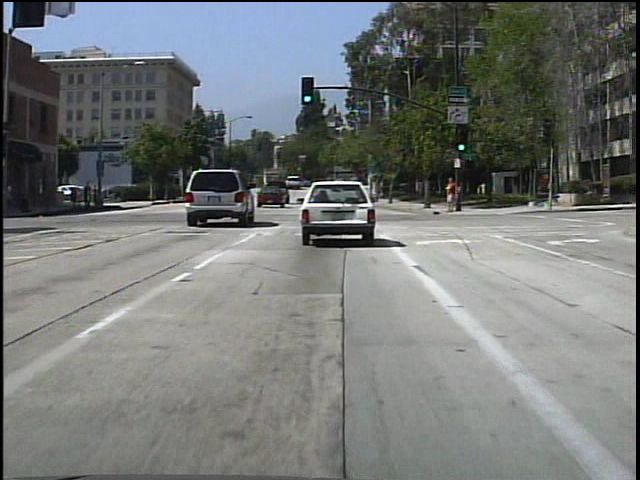person: (441, 172, 461, 216), (85, 179, 96, 212), (98, 182, 99, 208)
